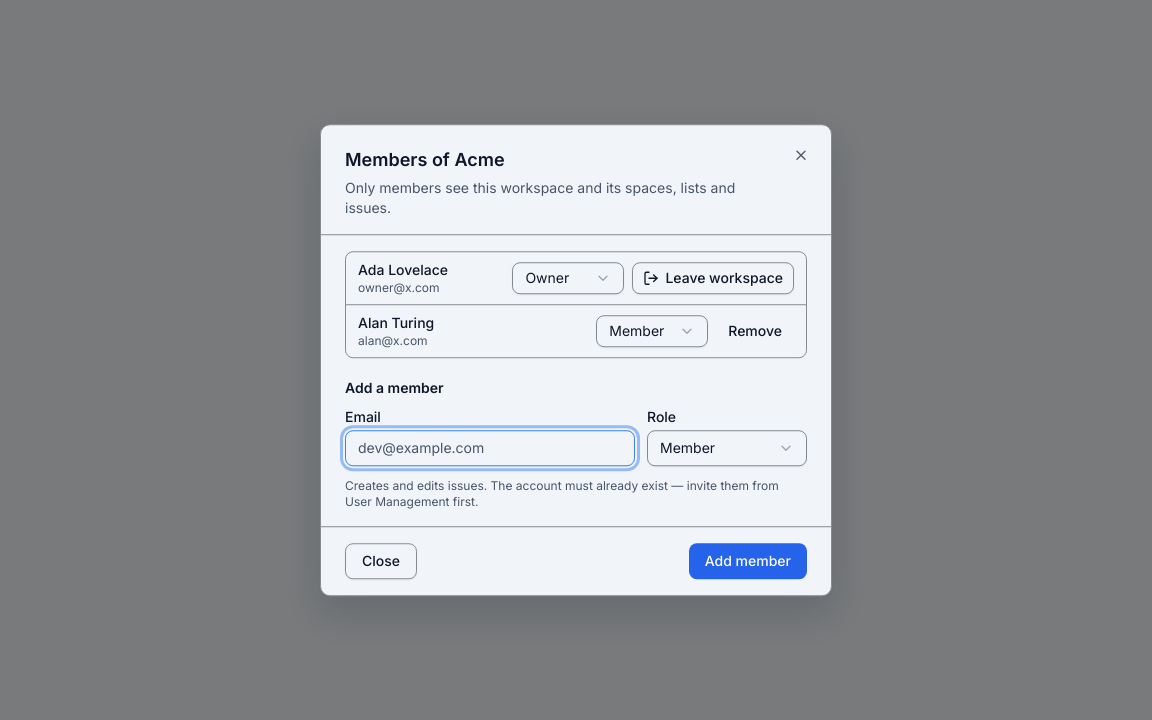
Test case: MembersDialog changing members › keeps a member whose removal is refused, and says what to change first
The image size is (1152, 720).
Click the button with aria-label "Remove Alan Turing" at (755, 331), box x1=716 y1=315 x2=794 y2=347
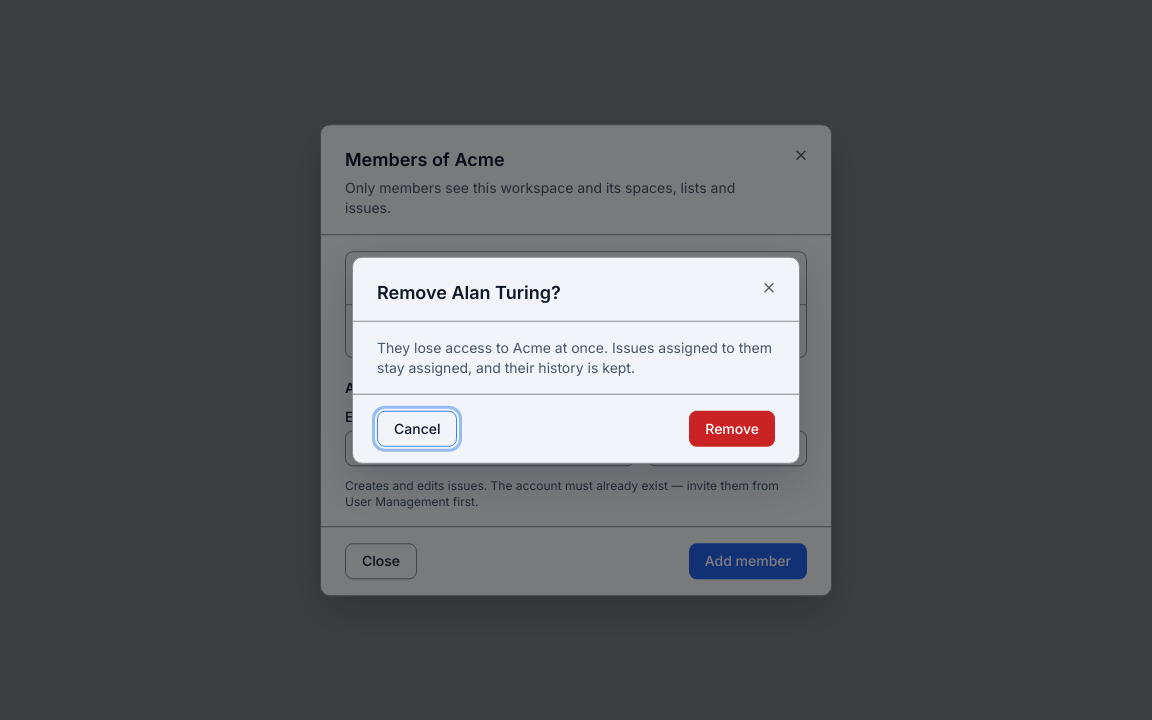
Click the button "Remove" at (732, 428), box x1=689 y1=410 x2=775 y2=446
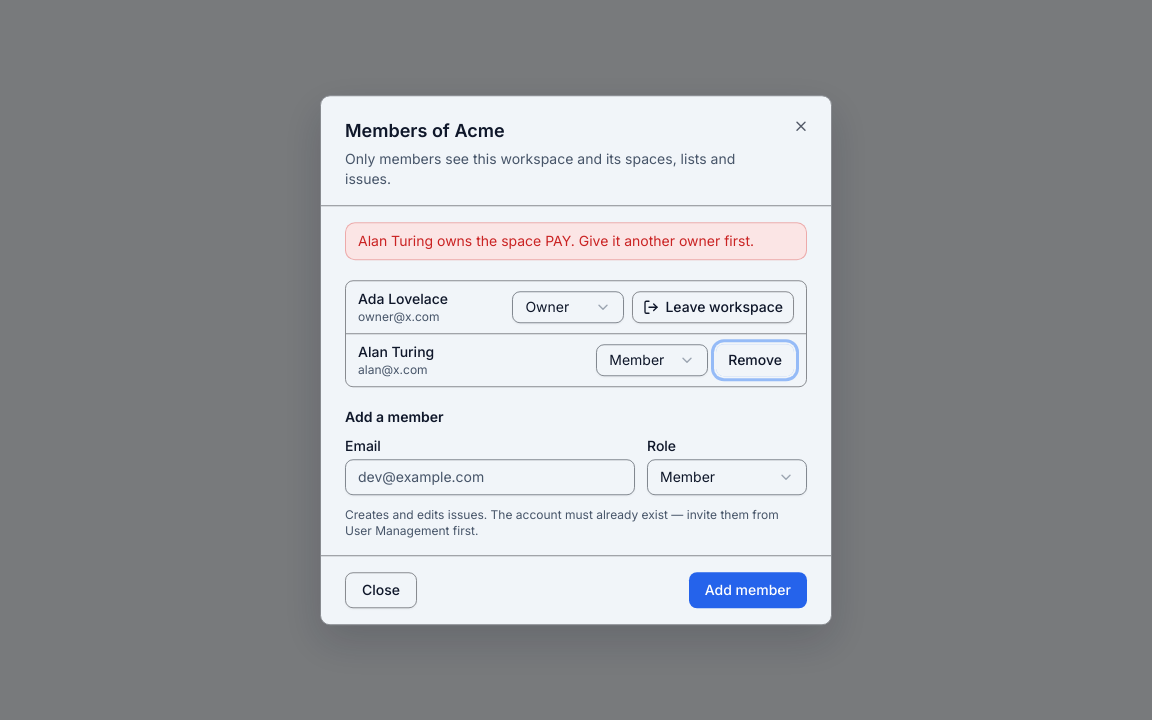
Expected: the text "Alan Turing" is shown, x1=358 y1=343 x2=434 y2=360
Expected: the message reads "Alan Turing owns the space PAY. Give it another owner first.", x1=358 y1=232 x2=754 y2=249
